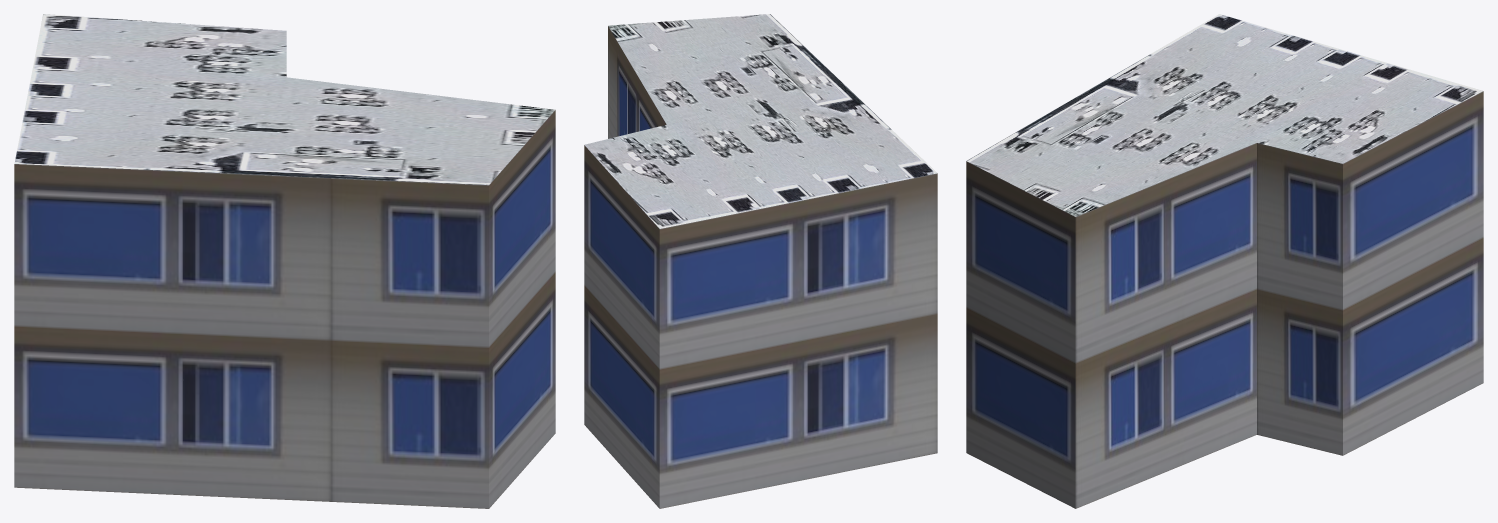
The model's file is ResTex__201.fbx.
3 views of the same model, side by side, from view 1: azimuth 30°, elevation 25°; view 2: azimuth 150°, elevation 25°; view 3: azimuth 270°, elevation 25° (orthographic). The views are drawn at different scales.
Visible parts, largest first — view 1: CityEngineMaterial_23_m, CityEngineMaterial_m; view 2: CityEngineMaterial_23_m, CityEngineMaterial_m; view 3: CityEngineMaterial_23_m, CityEngineMaterial_m.
Part boxes in pixels (x1,y1,x2,y2): CityEngineMaterial_23_m: [14, 110, 555, 508]; CityEngineMaterial_m: [14, 14, 554, 185]; CityEngineMaterial_23_m: [584, 26, 937, 508]; CityEngineMaterial_m: [584, 14, 937, 228]; CityEngineMaterial_23_m: [966, 91, 1483, 508]; CityEngineMaterial_m: [966, 14, 1483, 216].
Bounding box in the file's own units: 8.95 × 6 × 9.64.
2 materials, 2 textured.
